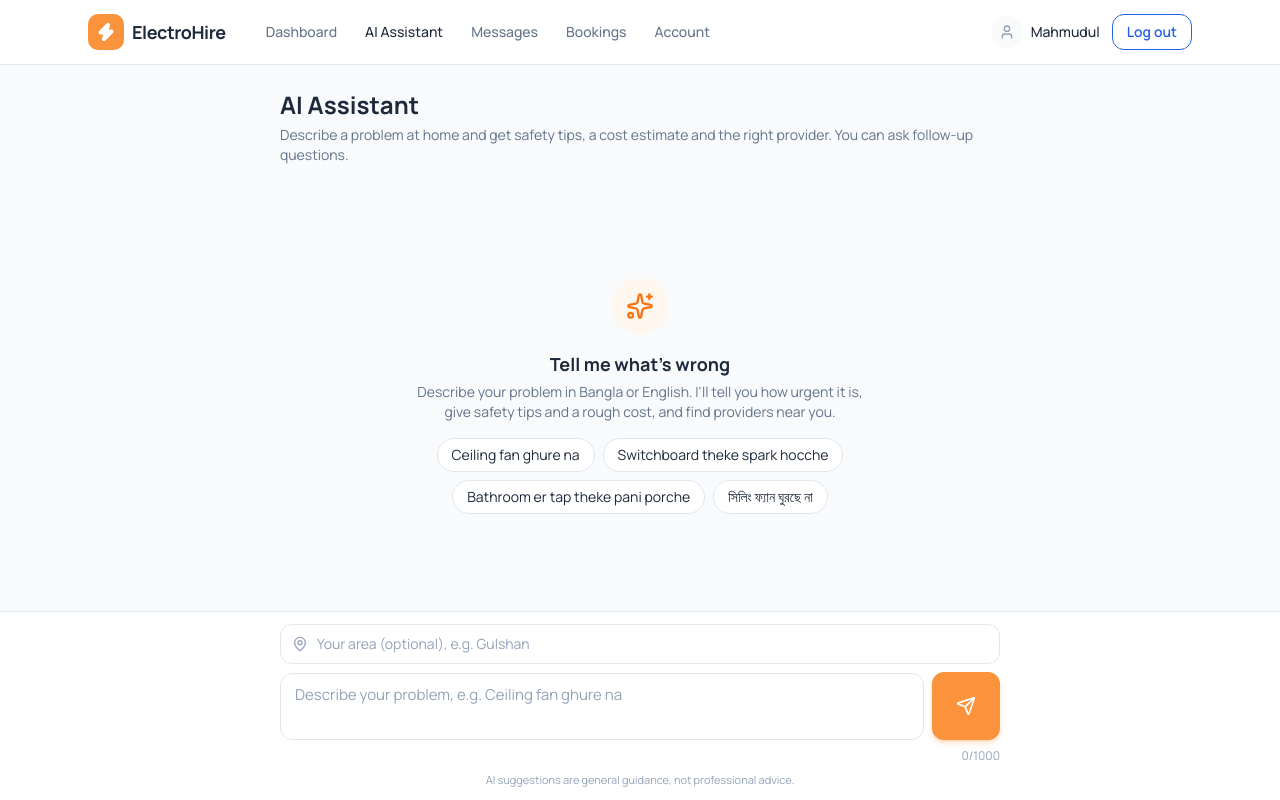
Test case: AI booking draft › offers a "Draft with AI" button on each recommended provider, alongside Contact and Book
Type "Ceiling fan ghure na" into the text box labelled "Describe your problem, e.g. Ceiling fan ghure na" at (602, 706), box [280,672,924,740]
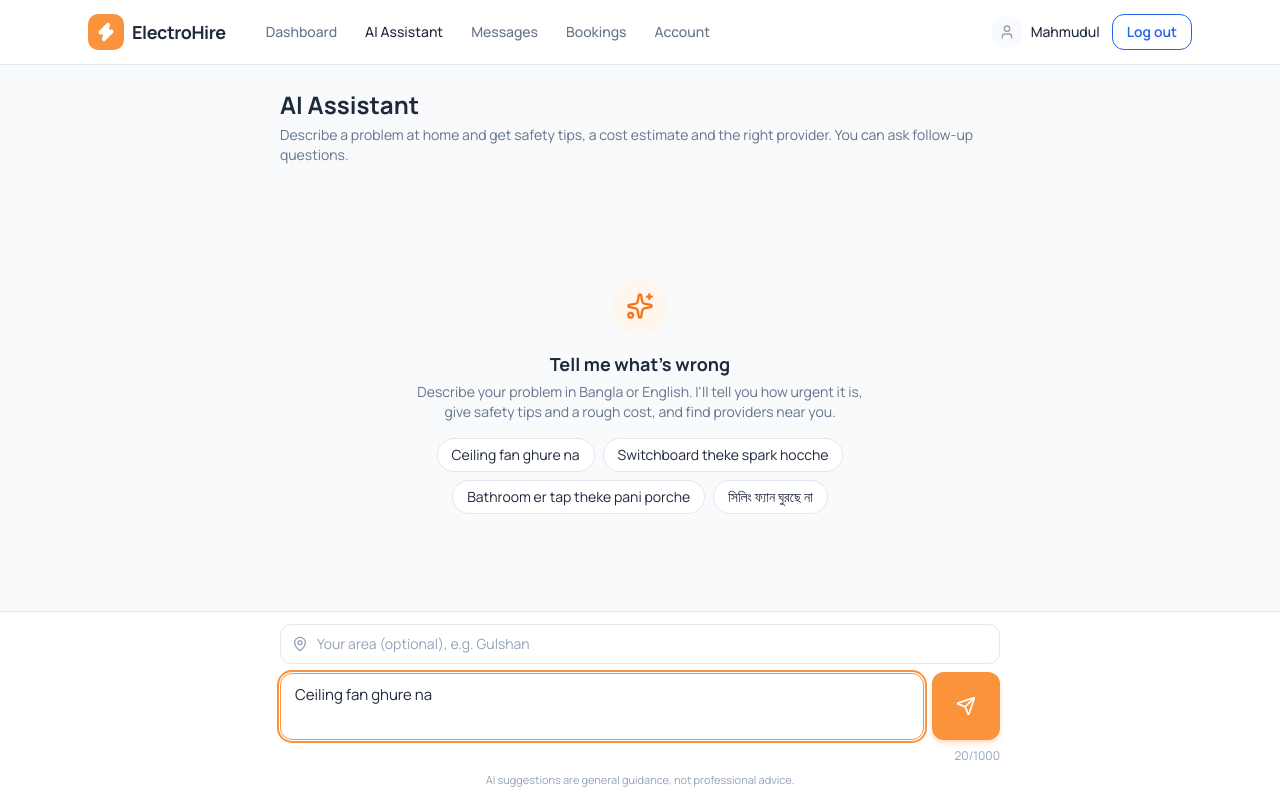
Click the button named "send" at (966, 706), box [932,672,1000,740]
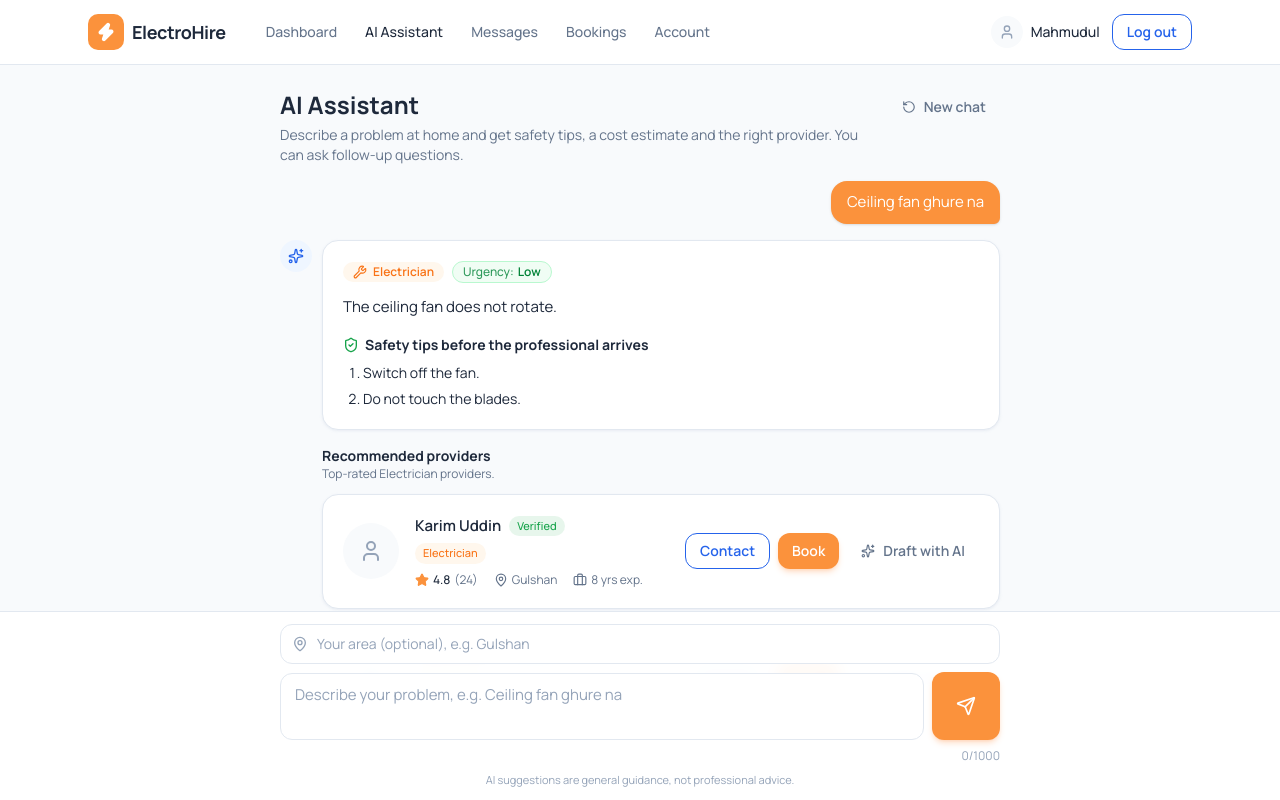
Now the button with aria-label "Draft with AI Karim Uddin" is shown, box [847,533,979,569]
Now the button with aria-label "Draft with AI Ruma Akter" is shown, box [847,660,979,696]
Now the link with aria-label "Contact Karim Uddin" is shown, box [685,533,770,569]
